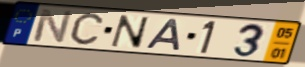1: (199, 20, 218, 55)
3: (231, 22, 270, 60)
A: (144, 18, 182, 52)
C: (69, 11, 105, 46)
N: (31, 8, 75, 45), (109, 14, 151, 50)
